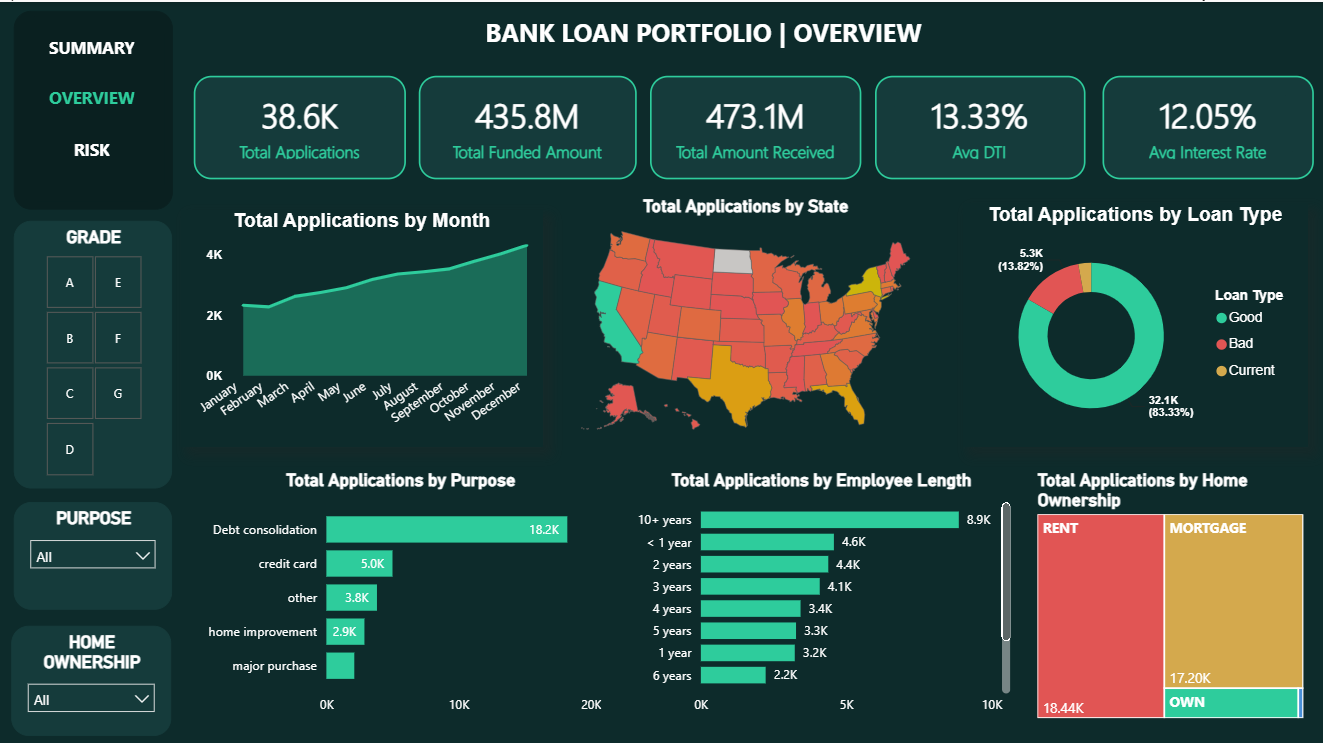

Layout of this report page (visuals, bound fields, positions):
{"tool":"powerbi","page":{"name":"OVERVIEW","canvas":[1280,720],"ordinal":1},"visuals":[{"type":"textbox","box":[377.5,8.8,602.5,46.2],"z":0},{"type":"shape","box":[13.3,8.4,153.2,191.8],"z":1000},{"type":"actionButton","box":[38.8,22.5,100,40],"z":2000},{"type":"actionButton","box":[38.8,71.2,100,40],"z":3000},{"type":"actionButton","box":[38.8,121.2,100,40],"z":4000},{"type":"slicer","title":"GRADE","fields":{"Values":["loan_data_cleaned2.grade"]},"box":[12.9,211.4,152.9,258.6],"z":5000},{"type":"slicer","title":"PURPOSE","fields":{"Values":["loan_data_cleaned2.verification_status"]},"box":[12.9,482.9,152.9,104.3],"z":6000},{"type":"donutChart","title":"Total Applications by Loan Type","fields":{"Category":["loan_data_cleaned2.loan_type"],"Y":["loan_data_cleaned2.Total Applications"]},"box":[928.8,193.8,333.8,235],"z":7000},{"type":"lineChart","fields":{"Category":["loan_data_cleaned2.issue_month.Variation.Date Hierarchy.Month"],"Y":["loan_data_cleaned2.Total Applications"]},"box":[175,200,348.8,228.8],"z":8000},{"type":"slicer","title":"HOME OWNERSHIP","fields":{"Values":["loan_data_cleaned2.home_ownership"]},"box":[11.4,601.4,154.3,106],"z":9000},{"type":"shapeMap","title":"Total Applications by State","fields":{"Category":["loan_data_cleaned2.address_state"]},"box":[537.5,187.5,363.8,241.2],"z":10000},{"type":"clusteredBarChart","fields":{"Y":["loan_data_cleaned2.Total Applications"],"Category":["loan_data_cleaned2.emp_length"]},"box":[605.3,450.7,374.7,245.3],"z":11000},{"type":"clusteredBarChart","fields":{"Category":["loan_data_cleaned2.purpose"],"Y":["loan_data_cleaned2.Total Applications"]},"box":[188,450.7,397.3,245.3],"z":12000},{"type":"cardVisual","fields":{"Data":["loan_data_cleaned2.Total Amount Received"]},"box":[627.1,71.4,204.3,100],"z":13000},{"type":"cardVisual","fields":{"Data":["loan_data_cleaned2.Total Applications"]},"box":[187.1,71.4,205,100],"z":14000},{"type":"cardVisual","fields":{"Data":["loan_data_cleaned2.Total Funded Amount"]},"box":[404.3,71.4,210,100],"z":15000},{"type":"cardVisual","fields":{"Data":["loan_data_cleaned2.Avg Interest Rate"]},"box":[1064.3,71.4,204.3,100],"z":16000},{"type":"cardVisual","fields":{"Data":["loan_data_cleaned2.Avg DTI"]},"box":[844.3,71.4,202.9,100],"z":17000},{"type":"treemap","title":"Total Applications by Home Ownership","fields":{"Group":["loan_data_cleaned2.home_ownership"],"Values":["loan_data_cleaned2.Total Applications"]},"box":[996.2,451.2,266.2,245],"z":18000}]}

Visuals, with their boxes in screenshot pixels (x1, y1, x2, y2), scaled from the page's 1280x720 canvas onto the 1323x743 screenshot:
textbox: 390/9/1013/57
shape: 14/9/172/207
actionButton: 40/23/143/64
actionButton: 40/73/143/115
actionButton: 40/125/143/166
"GRADE" slicer: 13/218/171/485
"PURPOSE" slicer: 13/498/171/606
"Total Applications by Loan Type" donutChart: 960/200/1305/442
lineChart - loan_data_cleaned2.issue_month.Variation.Date Hierarchy.Month x loan_data_cleaned2.Total Applications: 181/206/541/442
"HOME OWNERSHIP" slicer: 12/621/171/730
"Total Applications by State" shapeMap: 556/193/932/442
clusteredBarChart - loan_data_cleaned2.Total Applications x loan_data_cleaned2.emp_length: 626/465/1013/718
clusteredBarChart - loan_data_cleaned2.purpose x loan_data_cleaned2.Total Applications: 194/465/605/718
cardVisual - loan_data_cleaned2.Total Amount Received: 648/74/859/177
cardVisual - loan_data_cleaned2.Total Applications: 193/74/405/177
cardVisual - loan_data_cleaned2.Total Funded Amount: 418/74/635/177
cardVisual - loan_data_cleaned2.Avg Interest Rate: 1100/74/1311/177
cardVisual - loan_data_cleaned2.Avg DTI: 873/74/1082/177
"Total Applications by Home Ownership" treemap: 1030/466/1305/718
